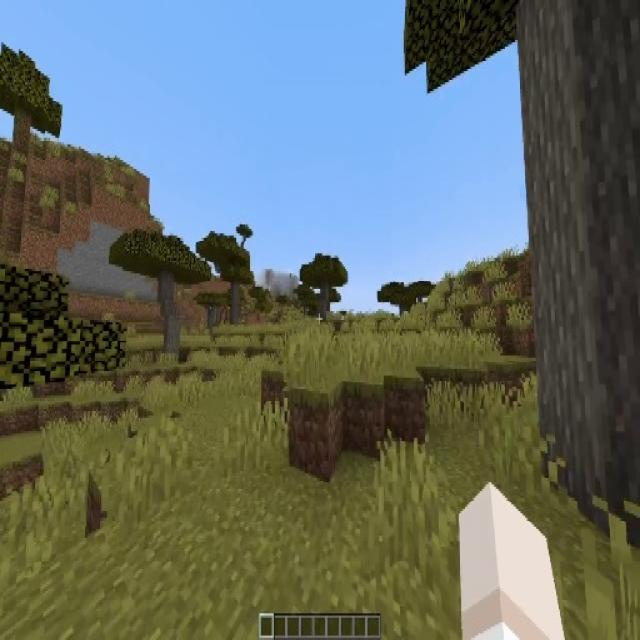acacia: (111, 227, 210, 361), (203, 233, 251, 324), (299, 253, 347, 320)
acacia_log: (522, 3, 640, 532), (158, 275, 181, 358), (232, 283, 240, 326), (319, 285, 328, 319)
oak: (0, 45, 63, 152)
oak_log: (14, 109, 30, 150)
